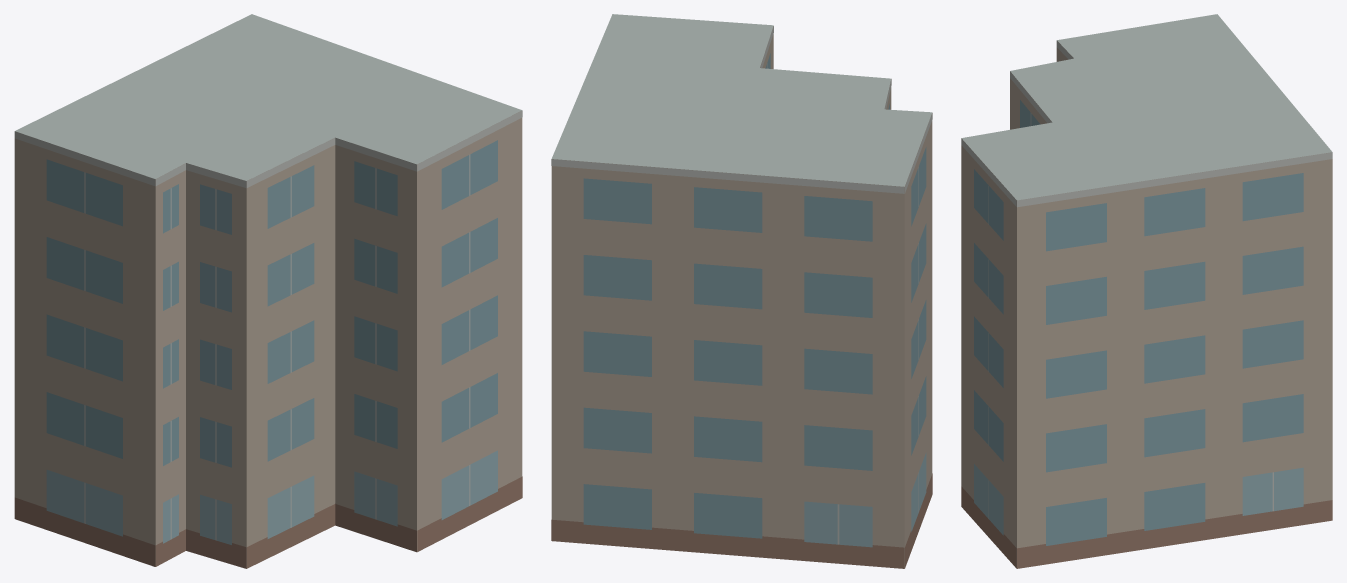
Rendered from survey-upis-32567528.glb.
The picture shows the model from 3 angles, left to right: view 1: azimuth 30°, elevation 25°; view 2: azimuth 150°, elevation 25°; view 3: azimuth 270°, elevation 25°; orthographic projection. The views are drawn at different scales.
Visible parts, largest first — view 1: survey-upis-32567528.tmp; view 2: survey-upis-32567528.tmp; view 3: survey-upis-32567528.tmp.
Part boxes in pixels (<box>): survey-upis-32567528.tmp: <box>14,14,522,568</box>; survey-upis-32567528.tmp: <box>551,14,932,568</box>; survey-upis-32567528.tmp: <box>961,14,1332,568</box>.
Bounding box in the file's own units: 14.23 × 13.1 × 11.98.
